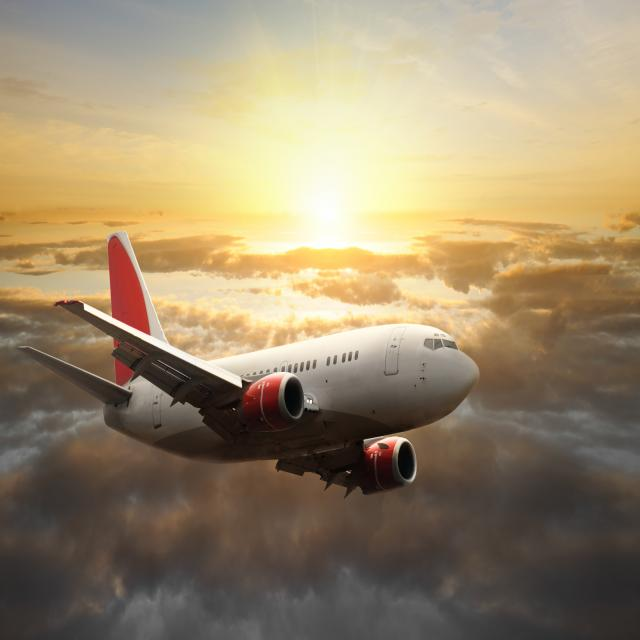plain: (12, 214, 488, 497)
